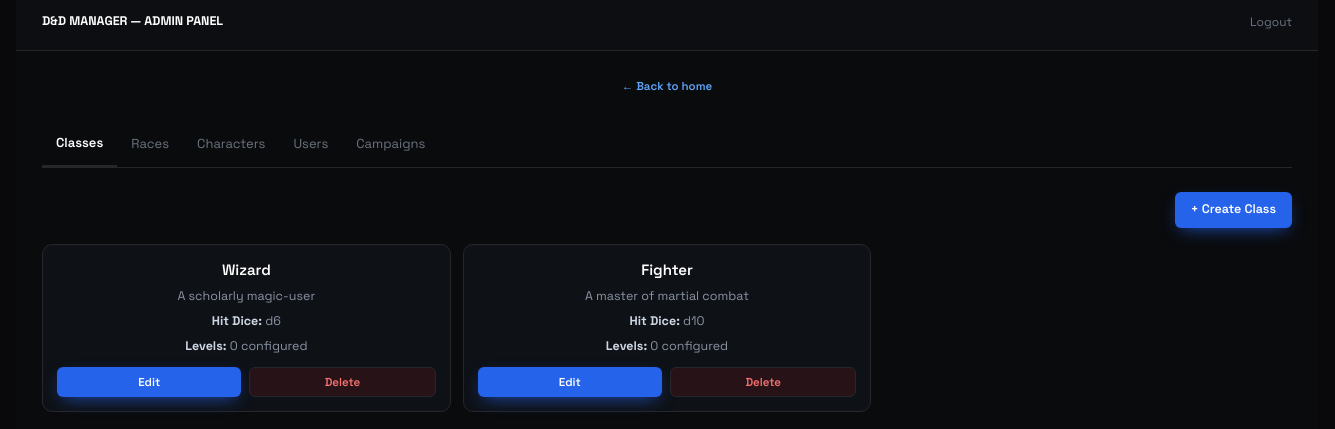
Test: AdminPanel — Tabs › clicking Users tab loads and shows users
Click the tab "Users" at (311, 144), box [279, 122, 342, 166]
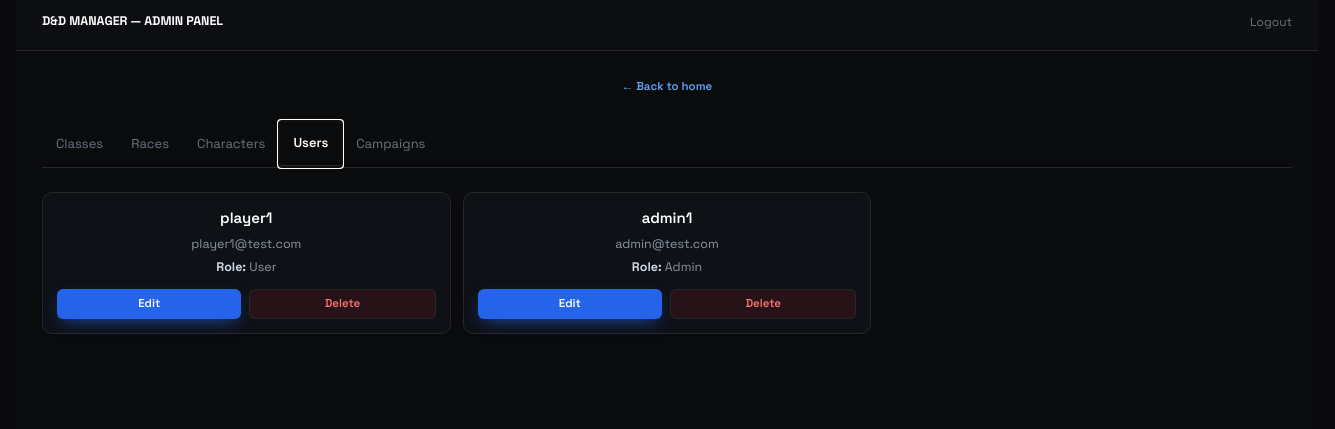
Expected: the heading "player1" is shown, [220, 208, 272, 226]
Expected: the heading "admin1" is shown, [642, 208, 692, 226]
